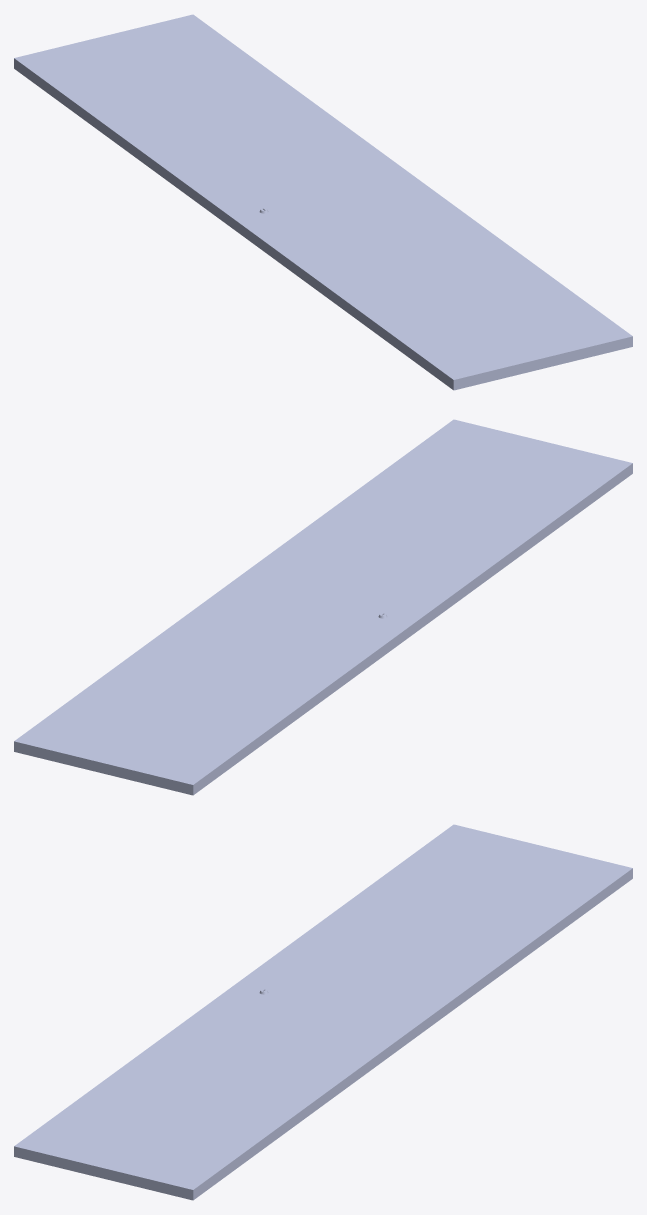
Rendered from Door for Locker cabinet - 40in..fbx.
3 renders of one model, top to bottom at view 1: azimuth 30°, elevation 25°; view 2: azimuth 150°, elevation 25°; view 3: azimuth 330°, elevation 25°, orthographic.
Visible parts, largest first — view 1: Body_1; view 2: Body_1; view 3: Body_1.
Boxes of the visible parts, x1,y1,x2,y2 form: Body_1: (14,14,632,390); Body_1: (14,419,632,795); Body_1: (14,824,632,1200).
Bounding box in the file's own units: 0.4532 × 1.93 × 0.0305.
